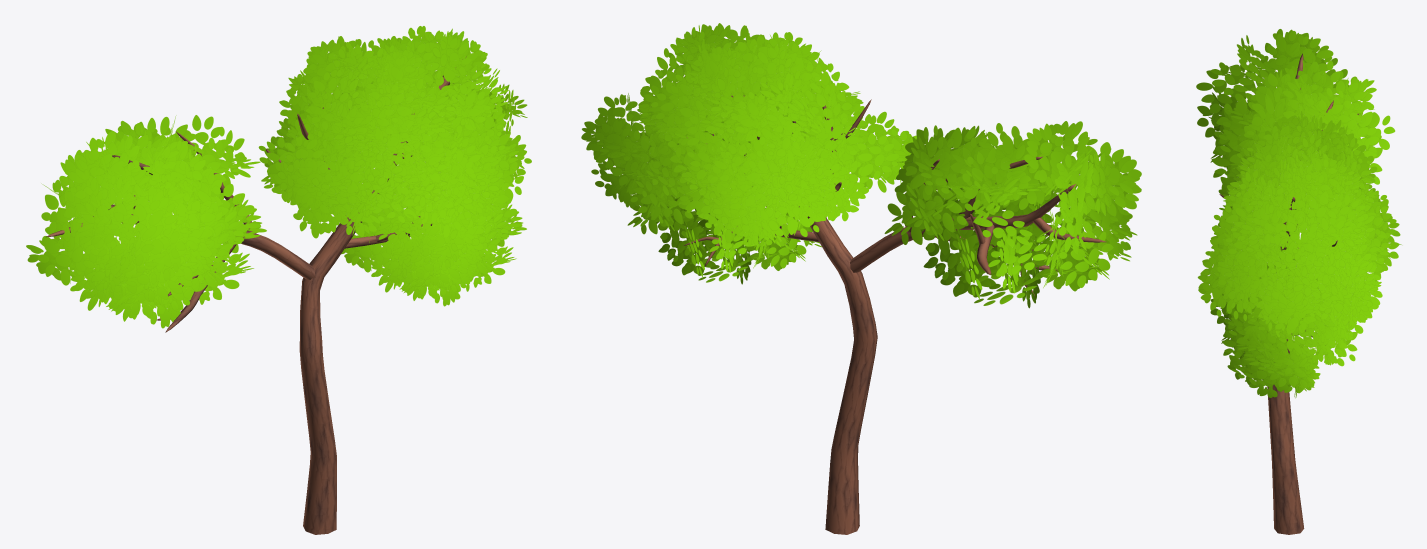
File: normaltree_4.glb
3 renders of one model, left to right at view 1: azimuth 30°, elevation 25°; view 2: azimuth 150°, elevation 25°; view 3: azimuth 270°, elevation 25°, orthographic. The views are drawn at different scales.
Parts seen in each view (by area): view 1: NormalTree_4; view 2: NormalTree_4; view 3: NormalTree_4.
Part boxes in pixels (x1=…): NormalTree_4: x1=26, y1=26, x2=531, y2=534; NormalTree_4: x1=581, y1=23, x2=1141, y2=534; NormalTree_4: x1=1196, y1=29, x2=1401, y2=534.
Size of the model in its own units: 5.67 by 5.1 by 2.4.
2 materials, 2 textured.
